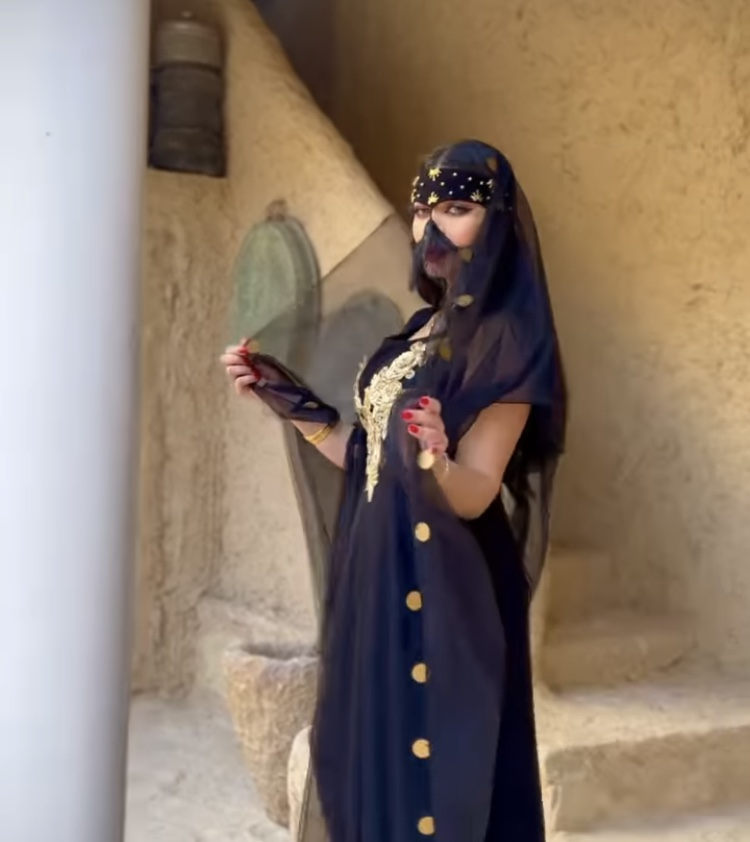Saudi_Founding_Day: (215, 137, 571, 842)
